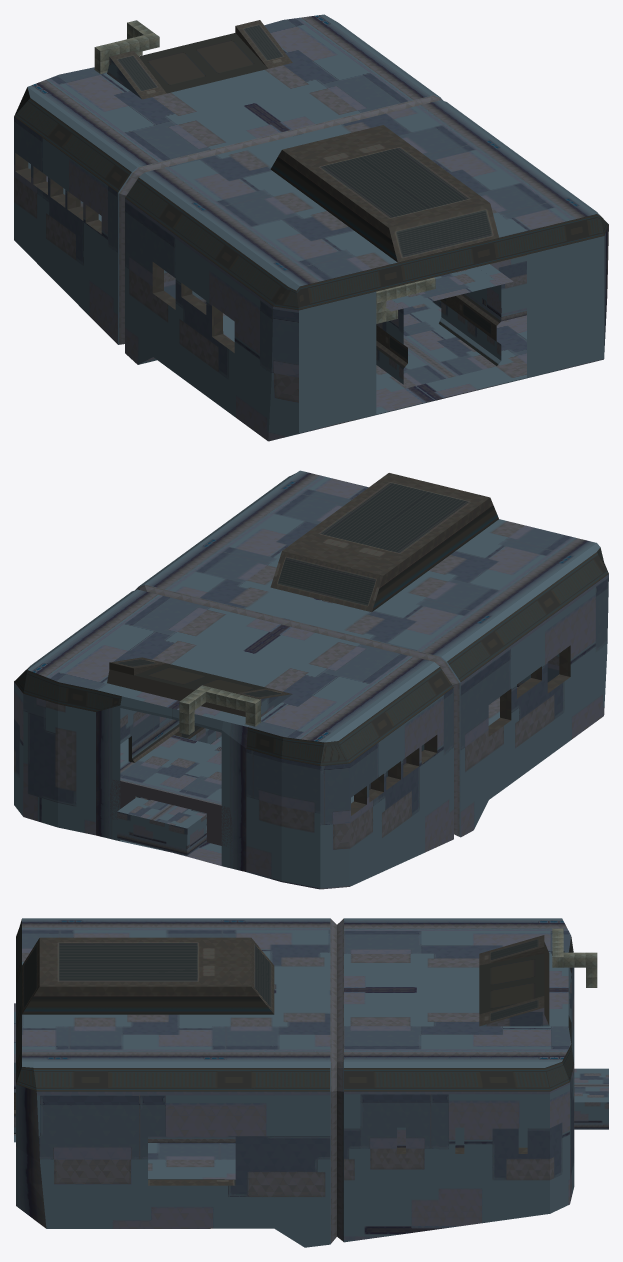
Rendered from mdlHub.fbx.
3 renders of one model, top to bottom at view 1: azimuth 30°, elevation 25°; view 2: azimuth 150°, elevation 25°; view 3: azimuth 270°, elevation 25°, orthographic.
Visible parts, largest first — view 1: Hub; view 2: Hub; view 3: Hub.
Part boxes in pixels (x1,y1,x2,y2): Hub: [14, 14, 608, 441]; Hub: [14, 470, 608, 889]; Hub: [14, 918, 608, 1247].
Size of the model in its own units: 170 by 100 by 264.
2 materials, 2 textured.
